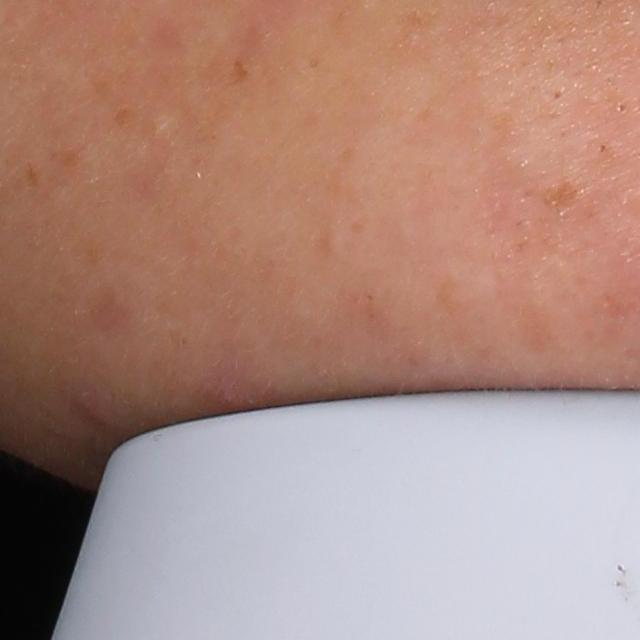comedo: (150, 115, 171, 140)
